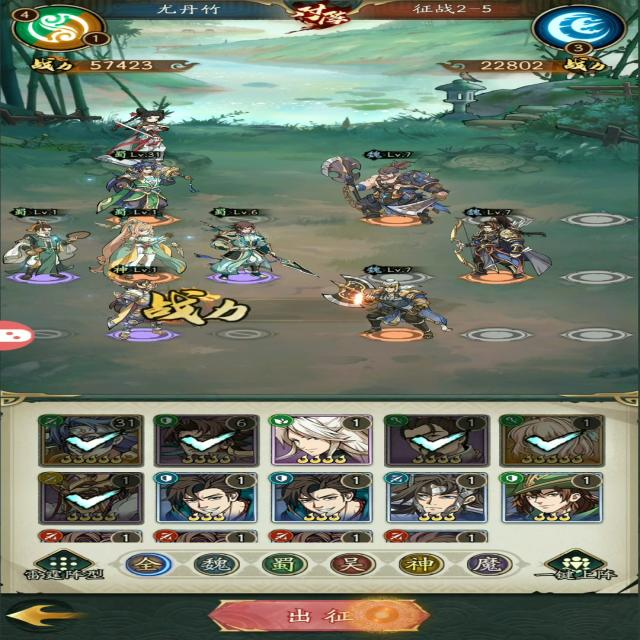operation-back: (0, 602, 110, 633)
operation-camp: (122, 548, 176, 579), (324, 552, 381, 579), (186, 550, 237, 579), (255, 549, 306, 577), (391, 555, 445, 576), (464, 552, 516, 573)
operation-enter: (204, 595, 430, 636)
operation-formation: (26, 551, 109, 585)
operation-inLineup: (494, 411, 604, 471), (40, 412, 148, 468), (164, 413, 263, 472), (385, 414, 490, 466), (40, 473, 150, 520)
operation-oneKeyDeployment: (540, 548, 616, 583)
operation-outLineup: (271, 411, 371, 468), (510, 472, 610, 521), (156, 472, 251, 523), (391, 473, 486, 521), (276, 474, 369, 522)
